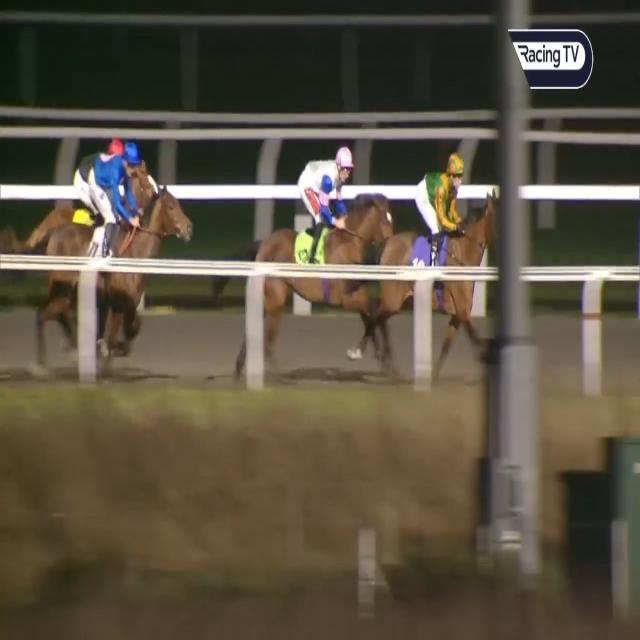horses-racing: (50, 137, 198, 358), (253, 148, 387, 340), (391, 151, 503, 318), (63, 134, 128, 211)
